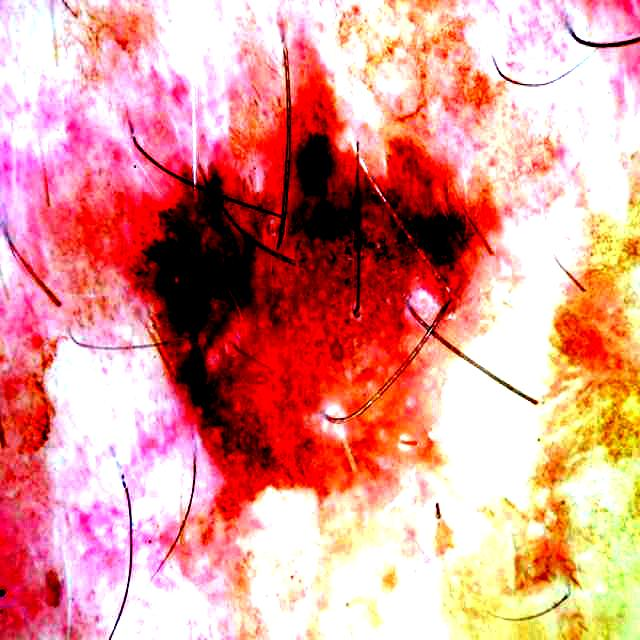AKIEC: (133, 88, 477, 500)
